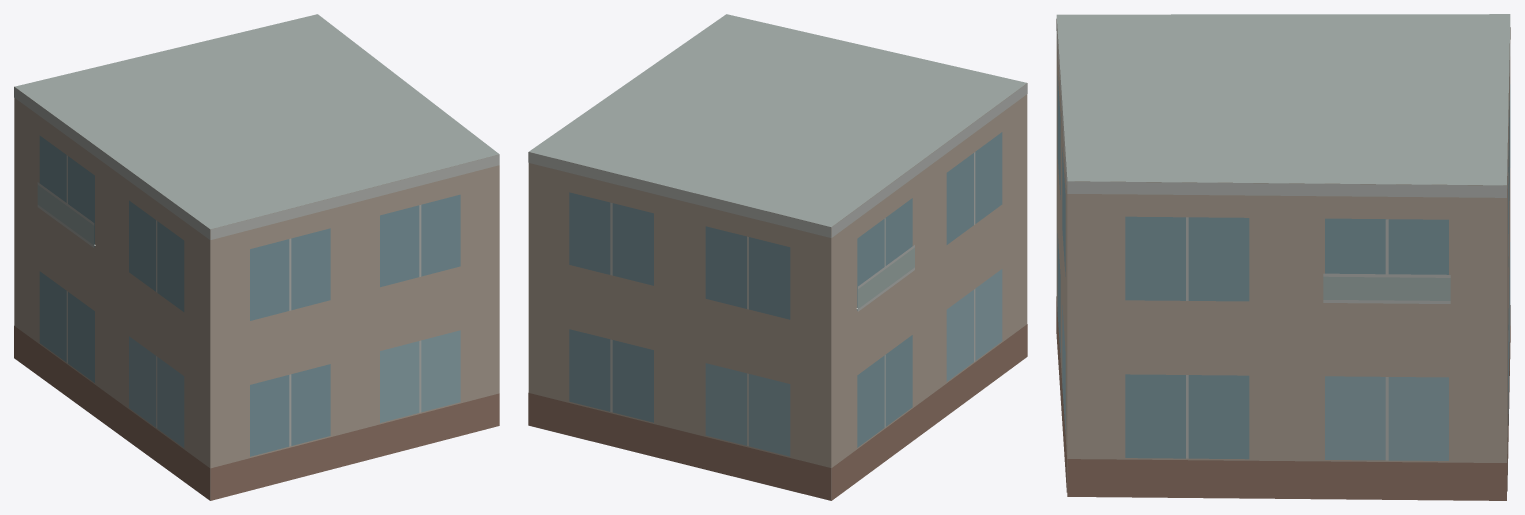
File: survey-upis-32461978.glb
3 renders of one model, left to right at view 1: azimuth 30°, elevation 25°; view 2: azimuth 150°, elevation 25°; view 3: azimuth 270°, elevation 25°, orthographic. The views are drawn at different scales.
Visible parts, largest first — view 1: survey-upis-32461978.tmp; view 2: survey-upis-32461978.tmp; view 3: survey-upis-32461978.tmp.
Part boxes in pixels (box(x1,y1,x2,y2)): survey-upis-32461978.tmp: box(14, 14, 499, 500); survey-upis-32461978.tmp: box(528, 14, 1027, 500); survey-upis-32461978.tmp: box(1056, 14, 1510, 500).
Bounding box in the file's own units: 7.16 × 6.1 × 7.97.
